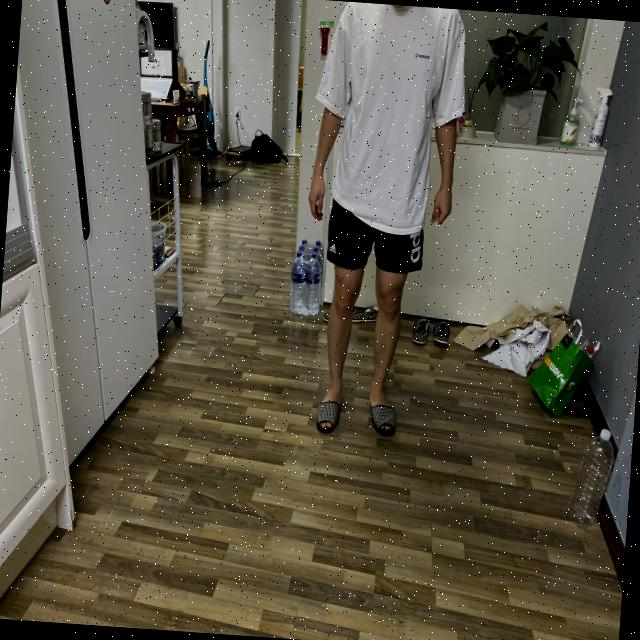no-boots: (358, 381, 407, 443), (307, 381, 347, 446)
